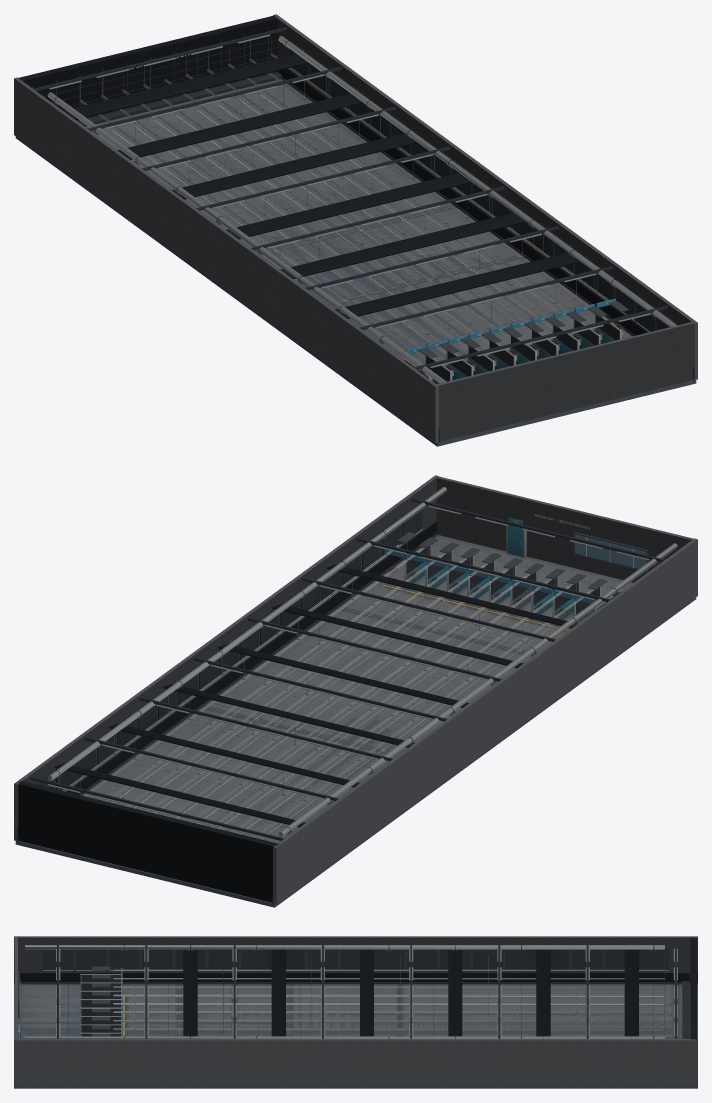
File: standard.glb
3 renders of one model, top to bottom at view 1: azimuth 30°, elevation 25°; view 2: azimuth 150°, elevation 25°; view 3: azimuth 270°, elevation 25°, orthographic. The views are drawn at different scales.
Parts seen in each view (by area): view 1: Polished range slab, Concrete perimeter, COL_floor, Rear wall, Downrange end wall, Concrete perimeter.001, Impact resistant lower wall.001, Suspended ballistic baffle.002, Suspended ballistic baffle.004, Suspended ballistic baffle.005, Suspended ballistic baffle.001, Suspended ballistic baffle (+13 smaller); view 2: Polished range slab, Concrete perimeter, Downrange end wall, Rear wall, Concrete perimeter.001, COL_floor, Impact resistant lower wall.001, Ventilation trunk, Ventilation trunk.001, Suspended ballistic baffle.001, Suspended ballistic baffle.002, Suspended ballistic baffle.005 (+13 smaller); view 3: Concrete perimeter.001, Polished range slab, COL_floor, Concrete perimeter, Impact resistant lower wall, Ventilation trunk, Ventilation trunk.001, Wall skirting, Suspended ballistic baffle.004, Suspended ballistic baffle.001, Suspended ballistic baffle.005, Suspended ballistic baffle (+47 smaller).
Boxes of the visible parts, box(x1,y1,x2,y2) form: Polished range slab: box(85, 79, 692, 441); Concrete perimeter: box(14, 77, 438, 443); COL_floor: box(15, 79, 696, 446); Rear wall: box(437, 321, 695, 441); Downrange end wall: box(18, 15, 278, 120); Concrete perimeter.001: box(273, 14, 697, 380); Impact resistant lower wall.001: box(277, 68, 694, 379); Suspended ballistic baffle.002: box(226, 170, 480, 239); Suspended ballistic baffle.004: box(117, 90, 371, 159); Suspended ballistic baffle.005: box(63, 50, 317, 119); Suspended ballistic baffle.001: box(280, 209, 534, 279); Suspended ballistic baffle: box(335, 249, 589, 318); Polished range slab: box(19, 535, 633, 902); Concrete perimeter: box(273, 538, 697, 904); Downrange end wall: box(17, 781, 278, 902); Rear wall: box(436, 476, 695, 582); Concrete perimeter.001: box(14, 475, 438, 841); COL_floor: box(15, 535, 696, 907); Impact resistant lower wall.001: box(17, 521, 437, 840); Ventilation trunk: box(278, 543, 677, 837); Ventilation trunk.001: box(47, 487, 446, 780); Suspended ballistic baffle.001: box(272, 604, 523, 668); Suspended ballistic baffle.002: box(217, 644, 468, 707); Suspended ballistic baffle.005: box(54, 763, 305, 827); Concrete perimeter.001: box(14, 1039, 697, 1086); Polished range slab: box(14, 984, 697, 1037); COL_floor: box(14, 984, 697, 1088); Concrete perimeter: box(14, 936, 697, 972); Impact resistant lower wall: box(14, 973, 697, 982); Ventilation trunk: box(25, 945, 664, 949); Ventilation trunk.001: box(25, 1036, 664, 1038); Wall skirting: box(14, 982, 697, 984); Suspended ballistic baffle.004: box(536, 949, 550, 1036); Suspended ballistic baffle.001: box(271, 949, 285, 1036); Suspended ballistic baffle.005: box(624, 949, 638, 1036); Suspended ballistic baffle: box(183, 949, 197, 1036).
Bounding box in the file's own units: 22.3 × 4.9 × 62.
Materials: 12 (5 with a texture image).
